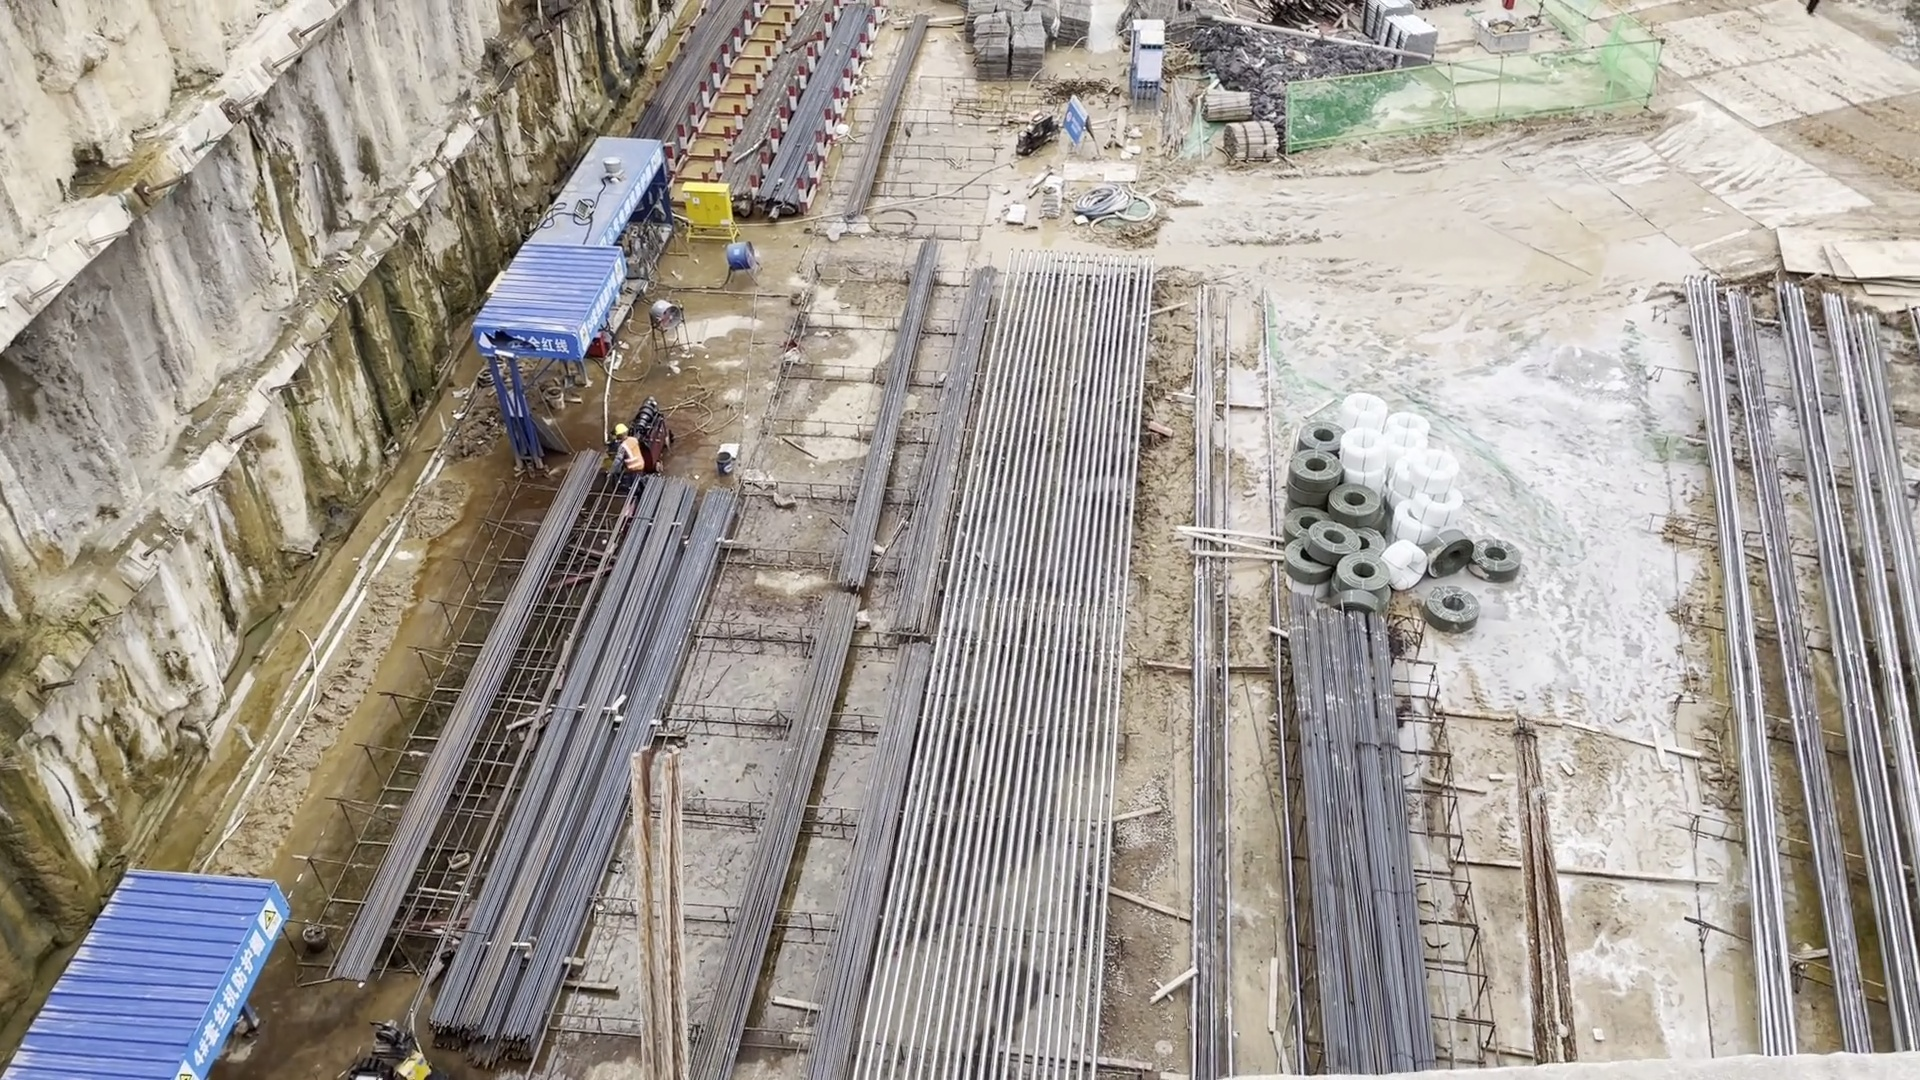brick: (1371, 3, 1445, 77)
ebox: (686, 184, 739, 245), (386, 1052, 441, 1080)
helmet: (616, 422, 632, 438)
hopper: (1469, 17, 1535, 53)
person: (608, 417, 644, 478)
rebar: (1673, 283, 1914, 1057), (786, 238, 990, 1077), (485, 477, 735, 1038), (1285, 597, 1434, 1080), (333, 676, 470, 979), (839, 5, 937, 224), (749, 3, 818, 211), (634, 11, 737, 131)
slogan: (188, 896, 282, 1080), (603, 146, 666, 239), (575, 263, 634, 351), (474, 332, 569, 361)
vest: (623, 435, 642, 472)
